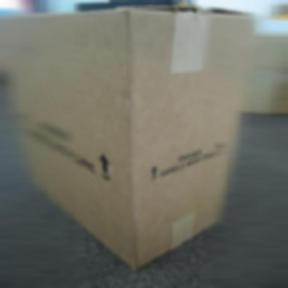box: (0, 0, 235, 267)
